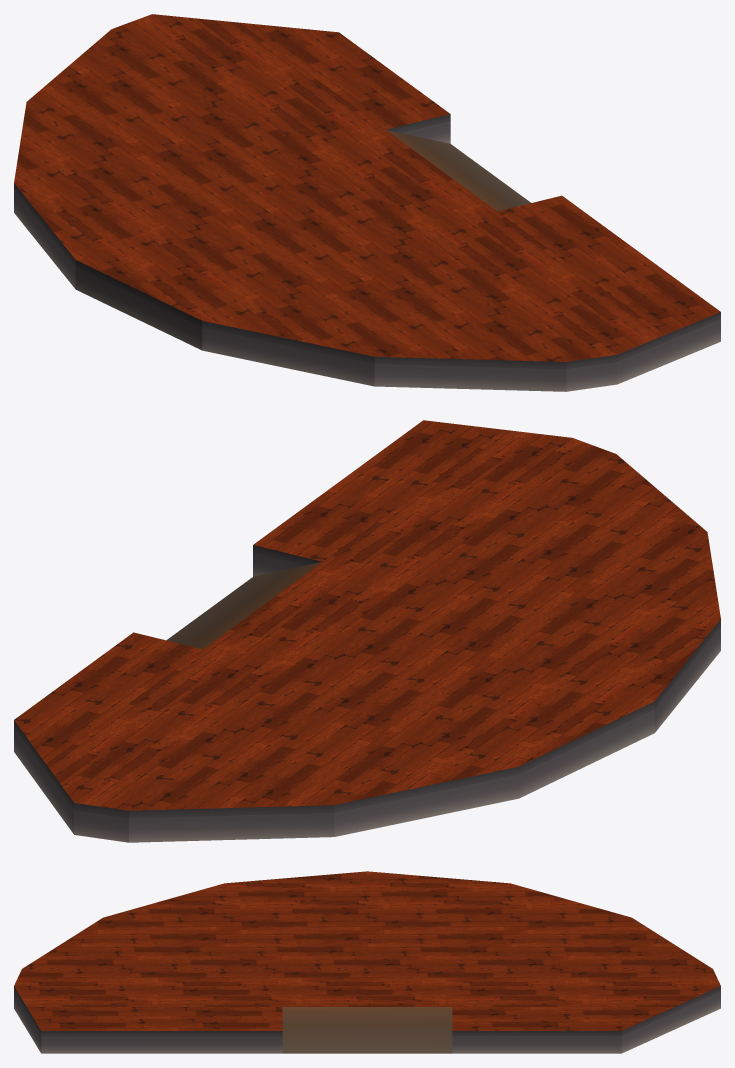
The model's file is StageFloor.fbx.
3 views of the same model, one above another, from view 1: azimuth 30°, elevation 25°; view 2: azimuth 150°, elevation 25°; view 3: azimuth 270°, elevation 25° (orthographic). The views are drawn at different scales.
Parts seen in each view (by area): view 1: Cylinder.007; view 2: Cylinder.007; view 3: Cylinder.007.
Part boxes in pixels (bbox=[...]): Cylinder.007: bbox=[14, 14, 720, 391]; Cylinder.007: bbox=[14, 420, 720, 842]; Cylinder.007: bbox=[14, 871, 720, 1053].
Bounding box in the file's own units: 5749 × 380 × 10760.
